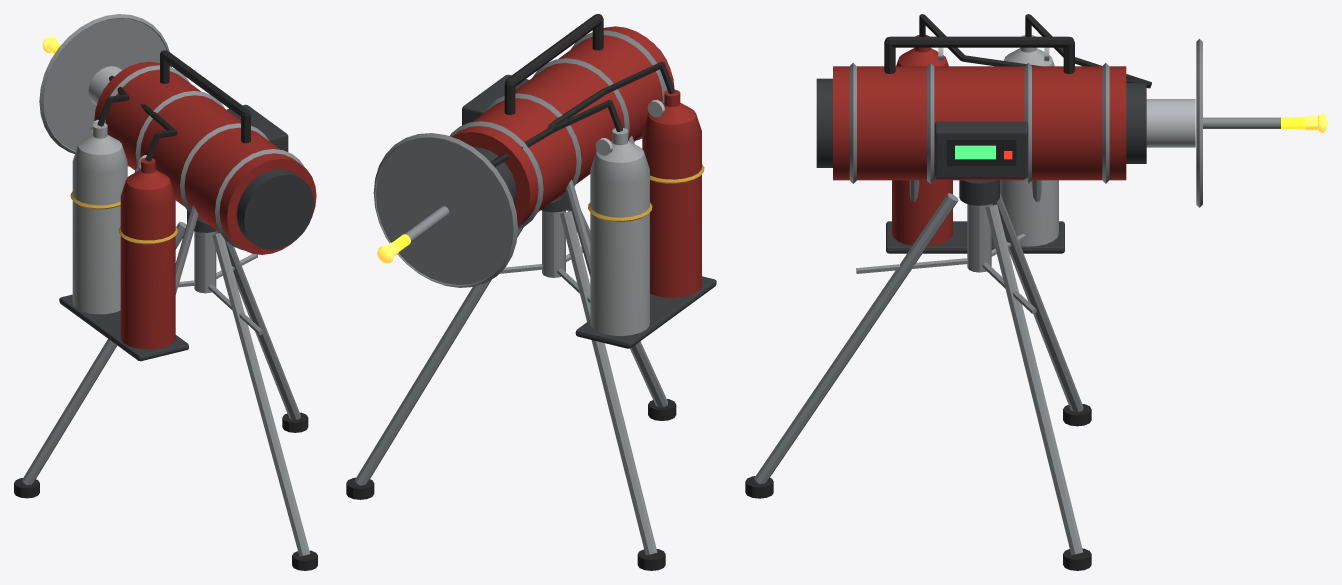
Rendered from prop_thermal_drill_device.glb.
The picture shows the model from 3 angles, left to right: view 1: azimuth 30°, elevation 25°; view 2: azimuth 150°, elevation 25°; view 3: azimuth 270°, elevation 25°; orthographic projection. The views are drawn at different scales.
Parts seen in each view (by area): view 1: Body; view 2: Body, Bit; view 3: Body, Bit.
Boxes of the visible parts, left/top/right/bottom form: Body: left=14, top=14, right=317, bottom=570; Body: left=346, top=14, right=716, bottom=570; Bit: left=377, top=206, right=449, bottom=263; Body: left=745, top=14, right=1202, bottom=570; Bit: left=1203, top=113, right=1327, bottom=132.
Size of the model in its own units: 0.91 by 1.23 by 1.43.
